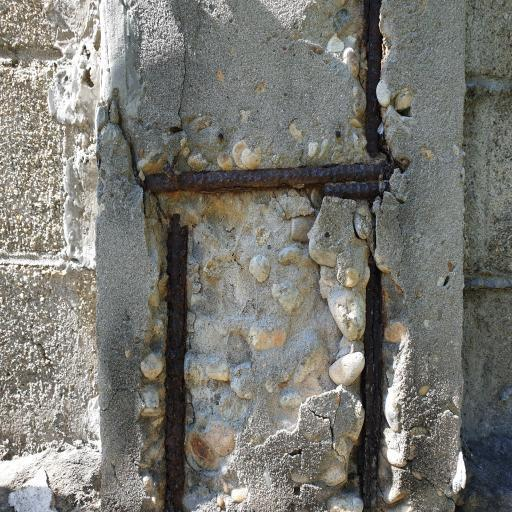exposed_rebar: (145, 165, 386, 199), (165, 215, 188, 512), (360, 263, 383, 510), (364, 0, 382, 156)
spalling: (185, 189, 370, 494)
